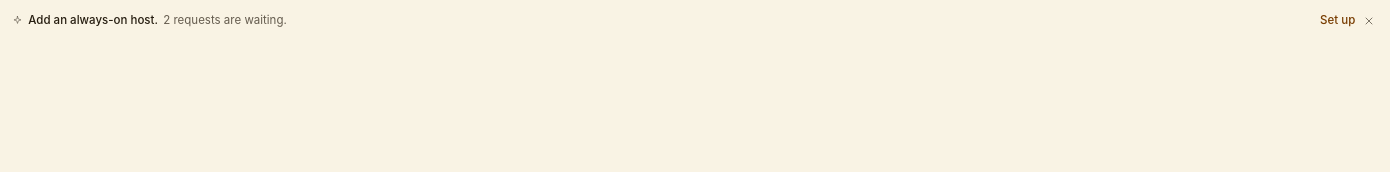
Test case: GrowthSuggestions › shows one suggestion at a time and remembers dismissals
This screenshot has width=1390, height=172.
Later steps or results of the test are not shown.
Expected: the text "Add an always-on host." is shown, [28,12,158,29]
Click the button "Set up": x=1338, y=21 [1320,12,1355,29]
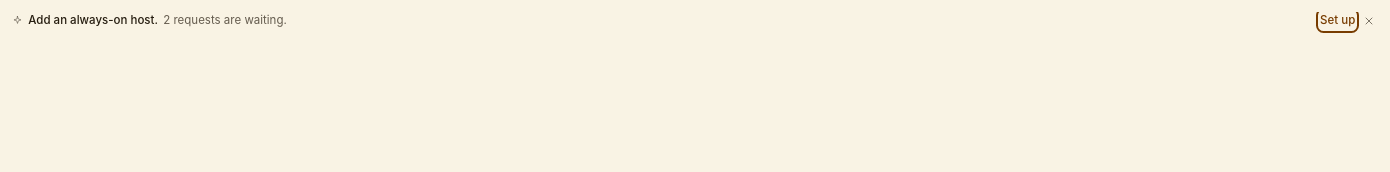
Click the button named "Dismiss suggestion": x=1369, y=21 [1360,12,1378,30]
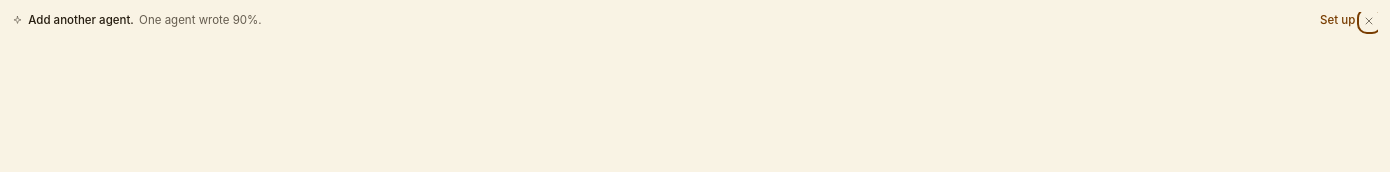
Now the text "Add another agent." is shown, box [28,12,134,29]
